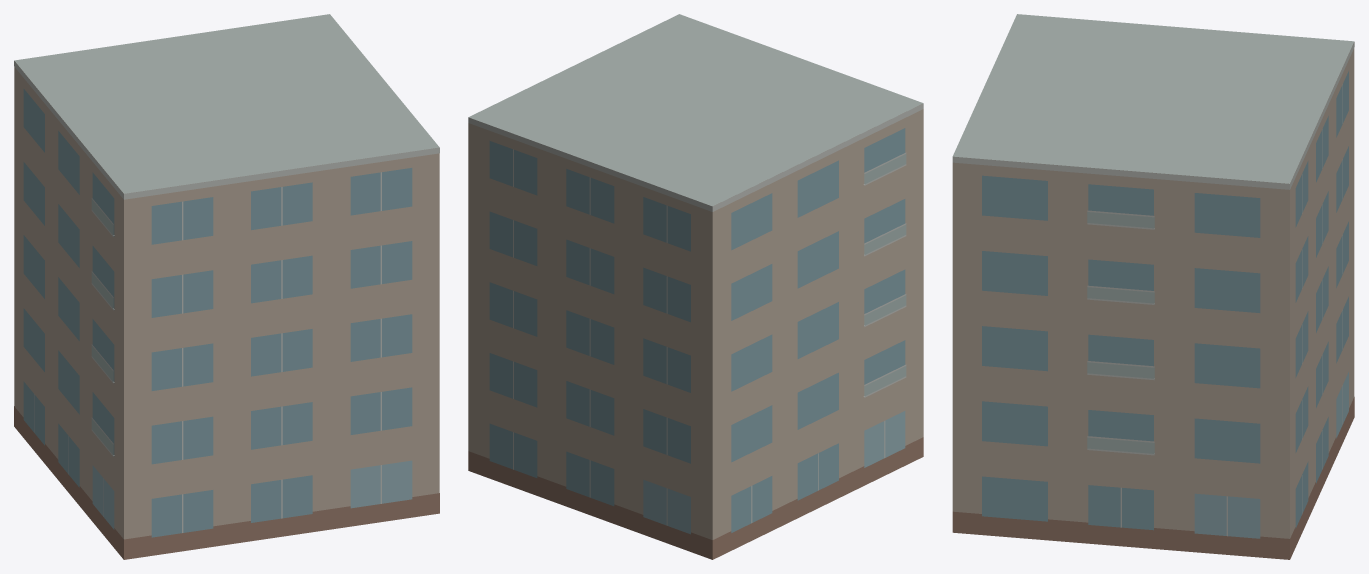
Rendered from residential-11026bd5-cfda-467d-ac05-999406d1ff6f.glb.
3 renders of one model, left to right at view 1: azimuth 30°, elevation 25°; view 2: azimuth 150°, elevation 25°; view 3: azimuth 270°, elevation 25°, orthographic. The views are drawn at different scales.
Parts seen in each view (by area): view 1: residential-11026bd5-cfda-467d-ac05-999406d1ff6f.tmp; view 2: residential-11026bd5-cfda-467d-ac05-999406d1ff6f.tmp; view 3: residential-11026bd5-cfda-467d-ac05-999406d1ff6f.tmp.
Boxes of the visible parts, box(x1,y1,x2,y2) form: residential-11026bd5-cfda-467d-ac05-999406d1ff6f.tmp: box(14, 14, 439, 559); residential-11026bd5-cfda-467d-ac05-999406d1ff6f.tmp: box(468, 14, 923, 559); residential-11026bd5-cfda-467d-ac05-999406d1ff6f.tmp: box(952, 14, 1354, 559).
Size of the model in its own units: 14.78 by 15.25 by 14.78.
